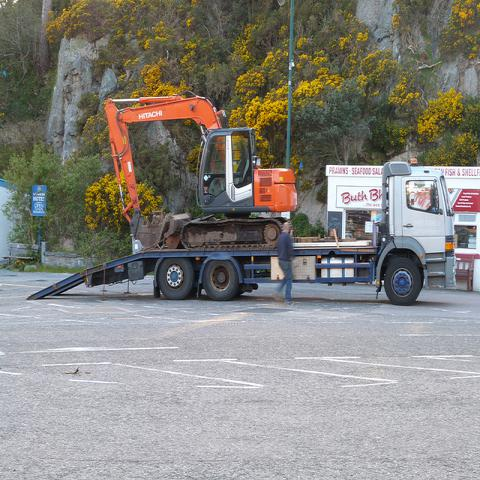truck: (29, 0, 457, 305)
